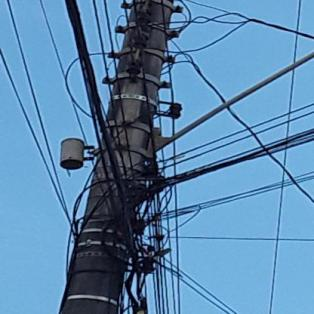Poste: (45, 0, 227, 314)
